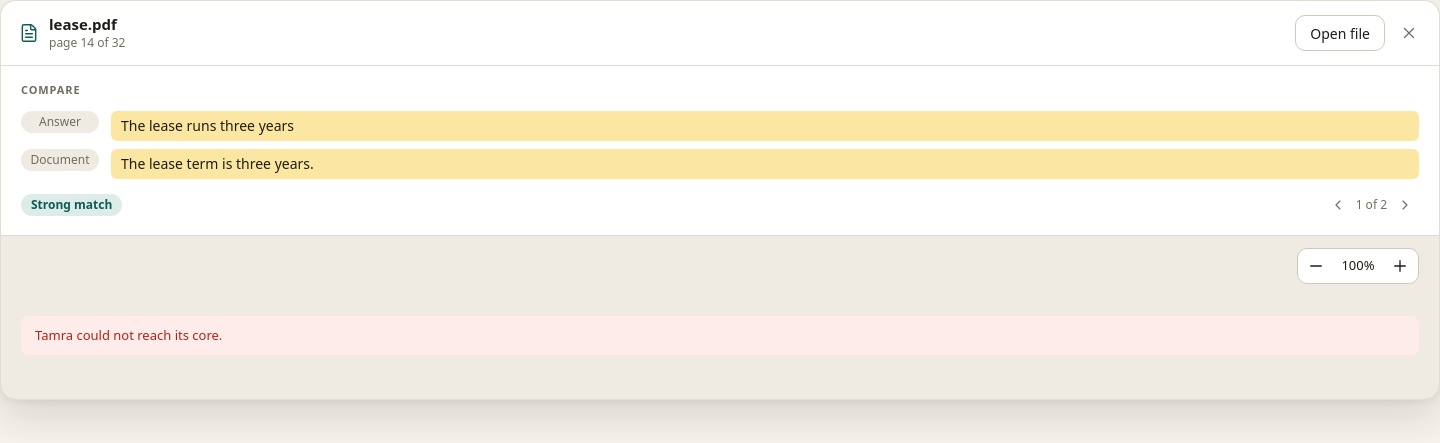
SourcePanel › labels a partial match and steps through several matches
Expected: the element showing "1 of 2" is shown, [1324, 190, 1419, 218]
Expected: the button named "Previous match" is disabled, [1324, 190, 1352, 218]
Click the button named "Next match": (1405, 204) [1391, 190, 1419, 218]
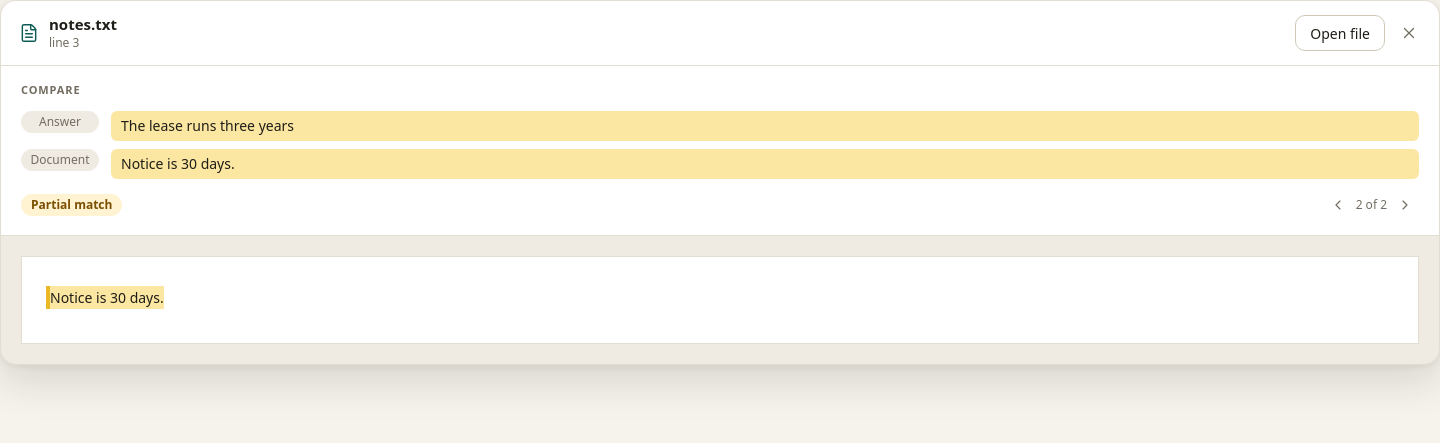
Expected: the text "Partial match" is shown, [21, 194, 122, 216]
Expected: the element showing "2 of 2" is shown, [1324, 190, 1419, 218]
Expected: the text "notes.txt" is shown, [49, 14, 117, 34]
